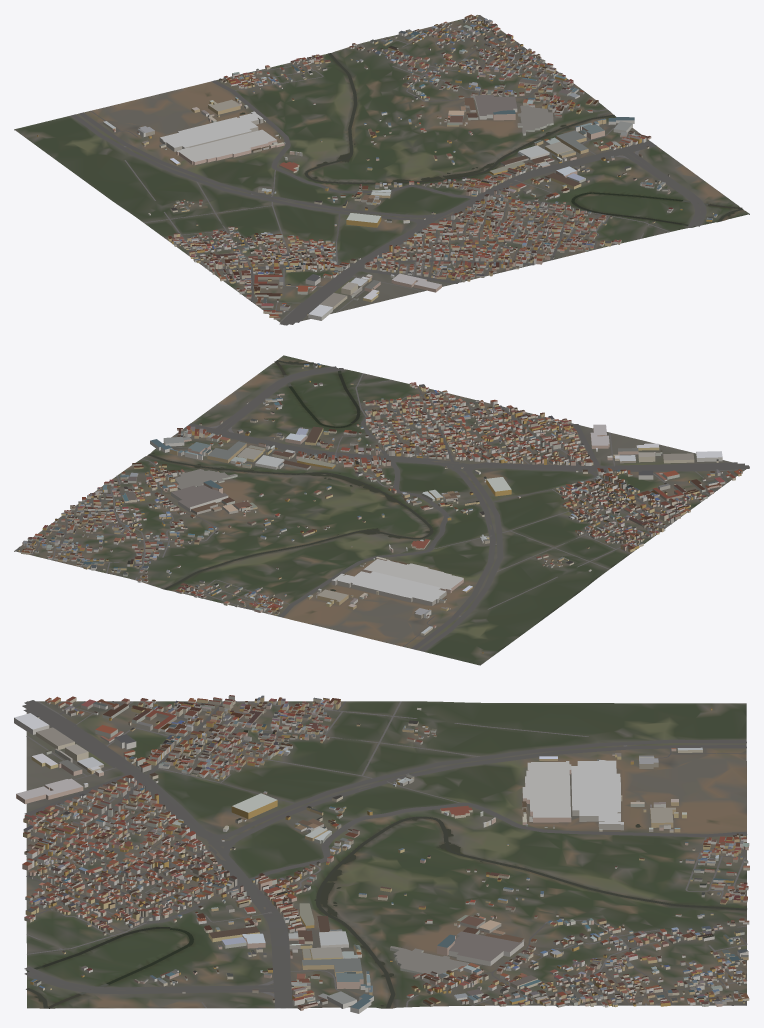
3 renders of one model, top to bottom at view 1: azimuth 30°, elevation 25°; view 2: azimuth 150°, elevation 25°; view 3: azimuth 270°, elevation 25°, orthographic. The views are drawn at different scales.
Parts seen in each view (by area): view 1: ground, buildings, roads, water; view 2: ground, buildings, roads, water; view 3: ground, buildings, roads, water.
Part boxes in pixels (box(x1,y1,x2,y2)): ground: box(14, 15, 749, 325); buildings: box(37, 14, 717, 320); roads: box(71, 15, 706, 325); water: box(240, 53, 743, 227); ground: box(14, 355, 749, 665); buildings: box(18, 363, 742, 653); roads: box(15, 366, 749, 651); water: box(148, 360, 433, 591); ground: box(26, 701, 746, 1008); buildings: box(14, 695, 749, 1013); roads: box(22, 700, 747, 1008); water: box(26, 816, 746, 1008).
Bounding box in the file's own units: 1435 × 28.72 × 1433.
